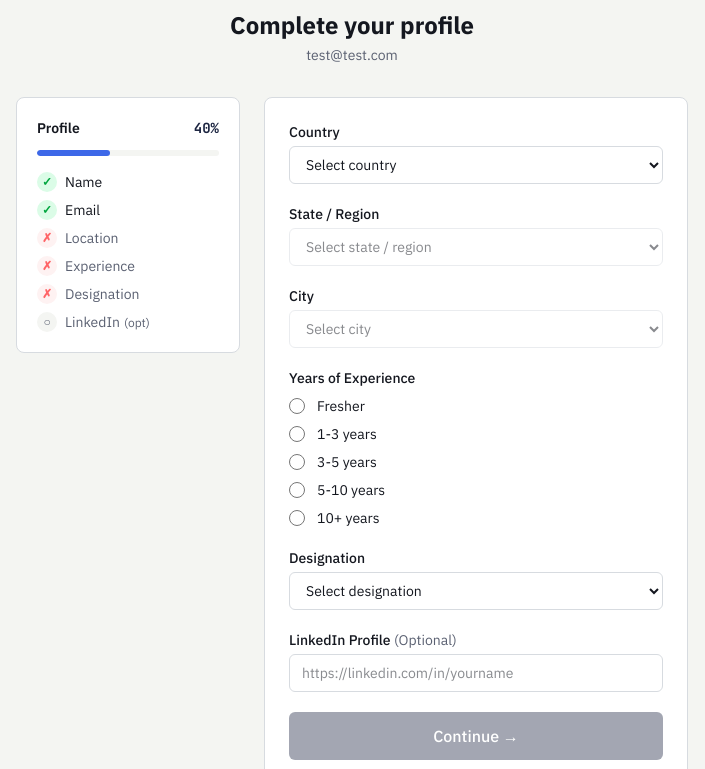
Test: CompleteProfilePage › enables Continue button only when all 3 required fields are filled
The image size is (705, 769).
Expected: the button "Continue →" is disabled, [289,712,663,760]
Select "India" in the dropdown named "Country" at (476, 165), box [289,146,663,184]
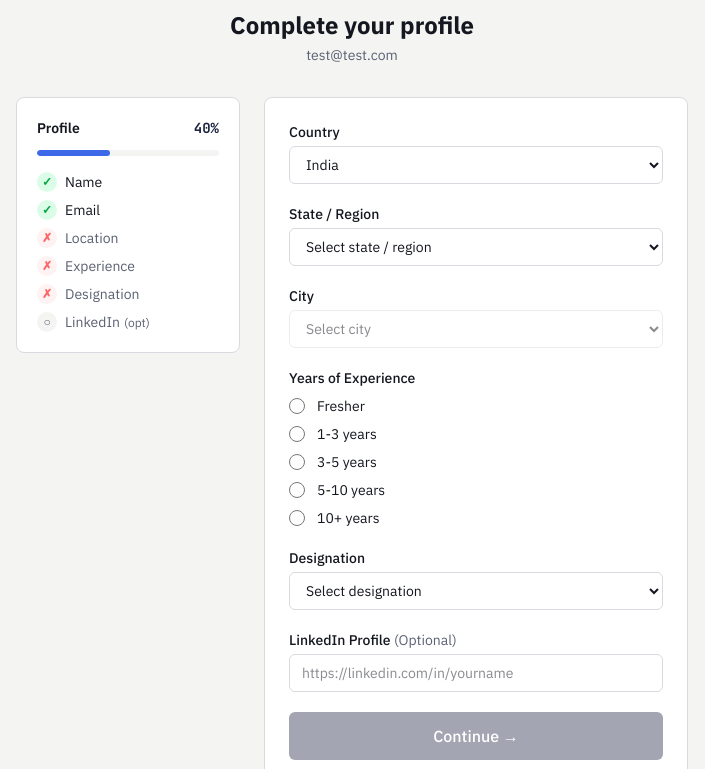
Select "Telangana" in the dropdown named "State or Region" at (476, 247), box [289,228,663,266]
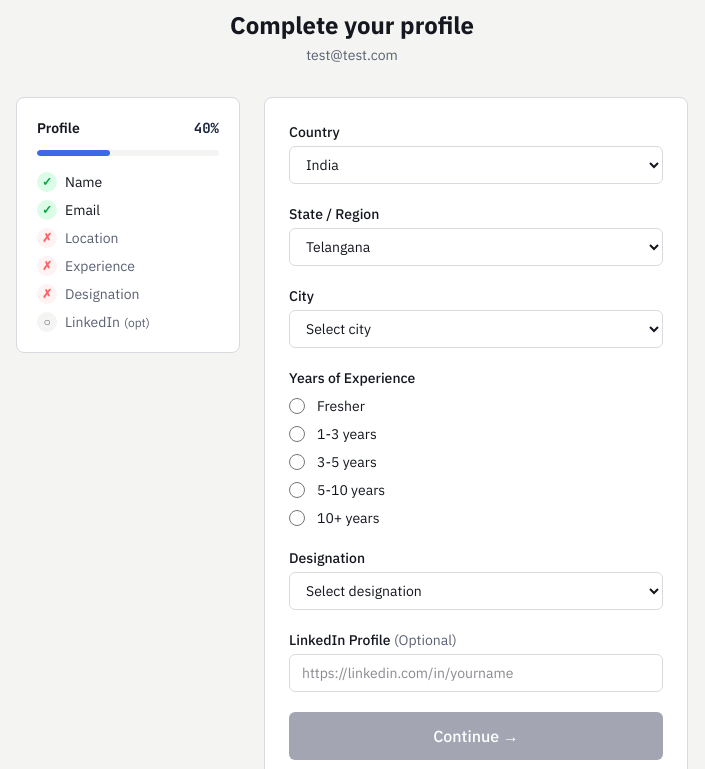
Select "Hyderabad" in the dropdown named "City" at (476, 329), box [289,310,663,348]
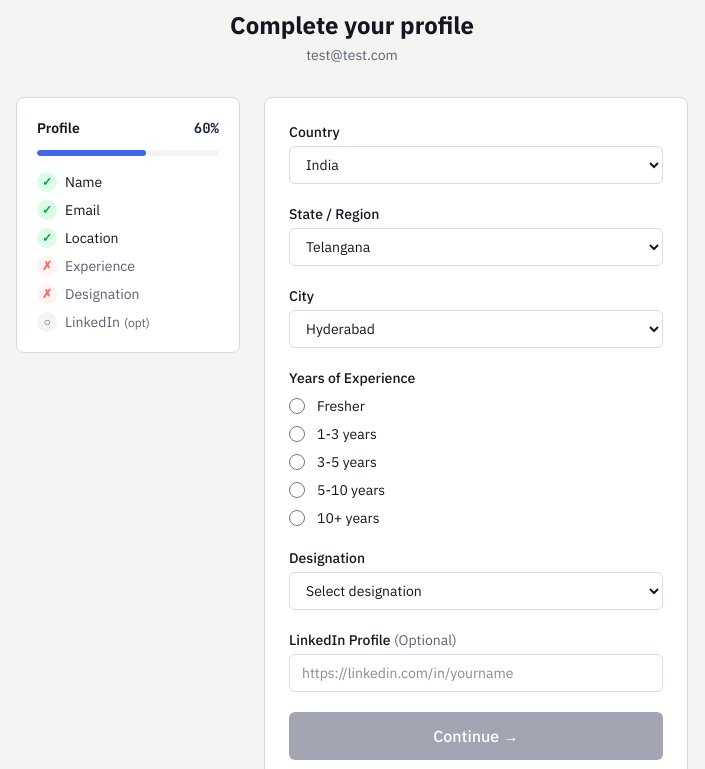
Click the radio button labelled "1-3 years".
click(297, 434)  # box [289,426,305,442]
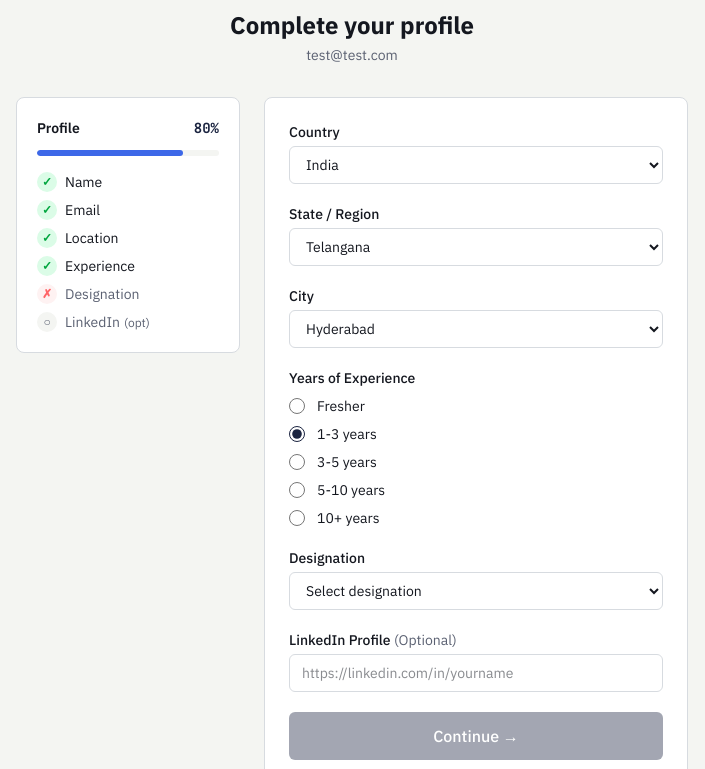
Select "Software Engineer / Developer" in the dropdown named "Designation" at (476, 591), box [289,572,663,610]
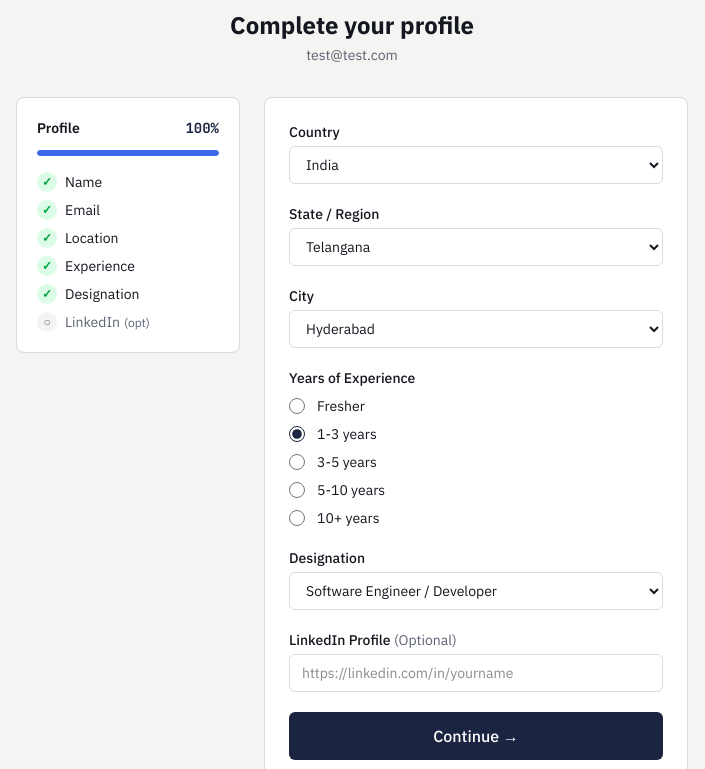
Expected: the button "Continue →" is enabled, [289,712,663,760]
